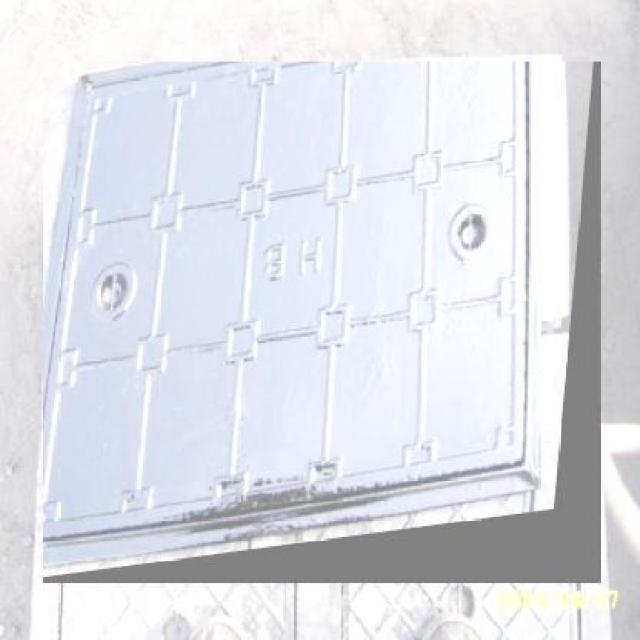Manhole: (43, 61, 600, 584)
